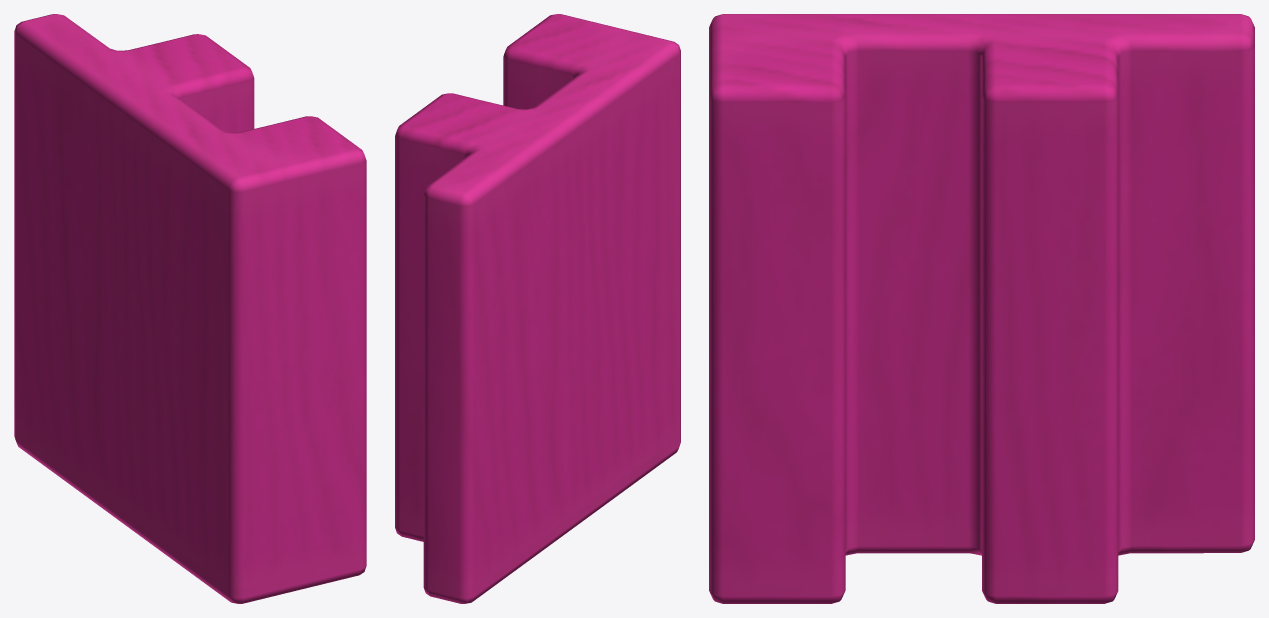
The model's file is Combined_Block_02.fbx.
3 renders of one model, left to right at view 1: azimuth 30°, elevation 25°; view 2: azimuth 150°, elevation 25°; view 3: azimuth 270°, elevation 25°, orthographic. The views are drawn at different scales.
Visible parts, largest first — view 1: Combined_Block; view 2: Combined_Block; view 3: Combined_Block.
Boxes of the visible parts, x1,y1,x2,y2 form: Combined_Block: (14, 14, 366, 603); Combined_Block: (395, 14, 680, 603); Combined_Block: (709, 14, 1254, 603).
Size of the model in its own units: 0.3531 by 1.05 by 1.
Materials: 1 (1 with a texture image).
